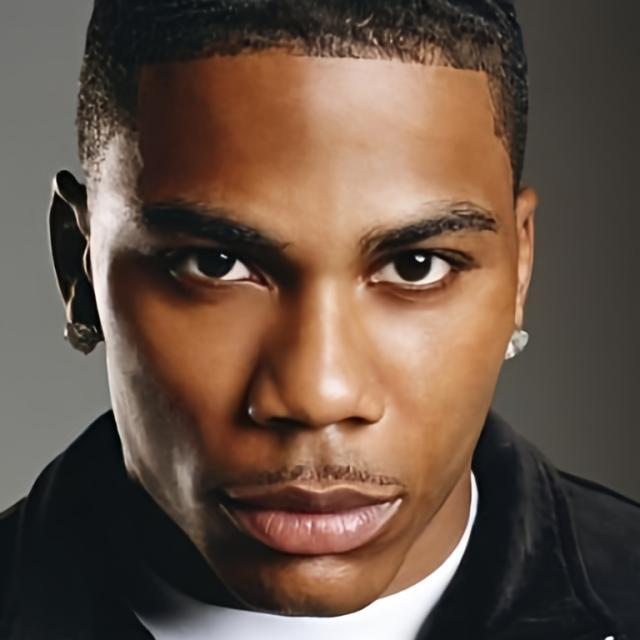anger: (92, 38, 518, 616)
